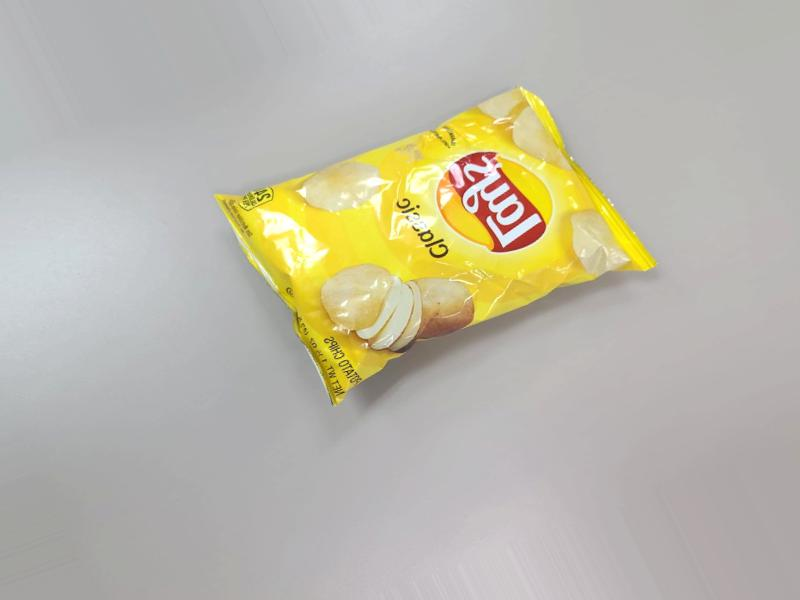lays: (230, 80, 667, 421)
